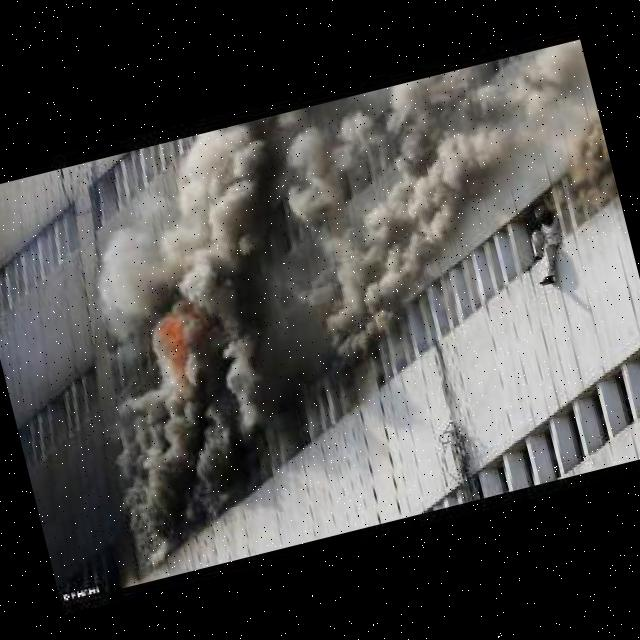fire: (71, 190, 281, 528)
